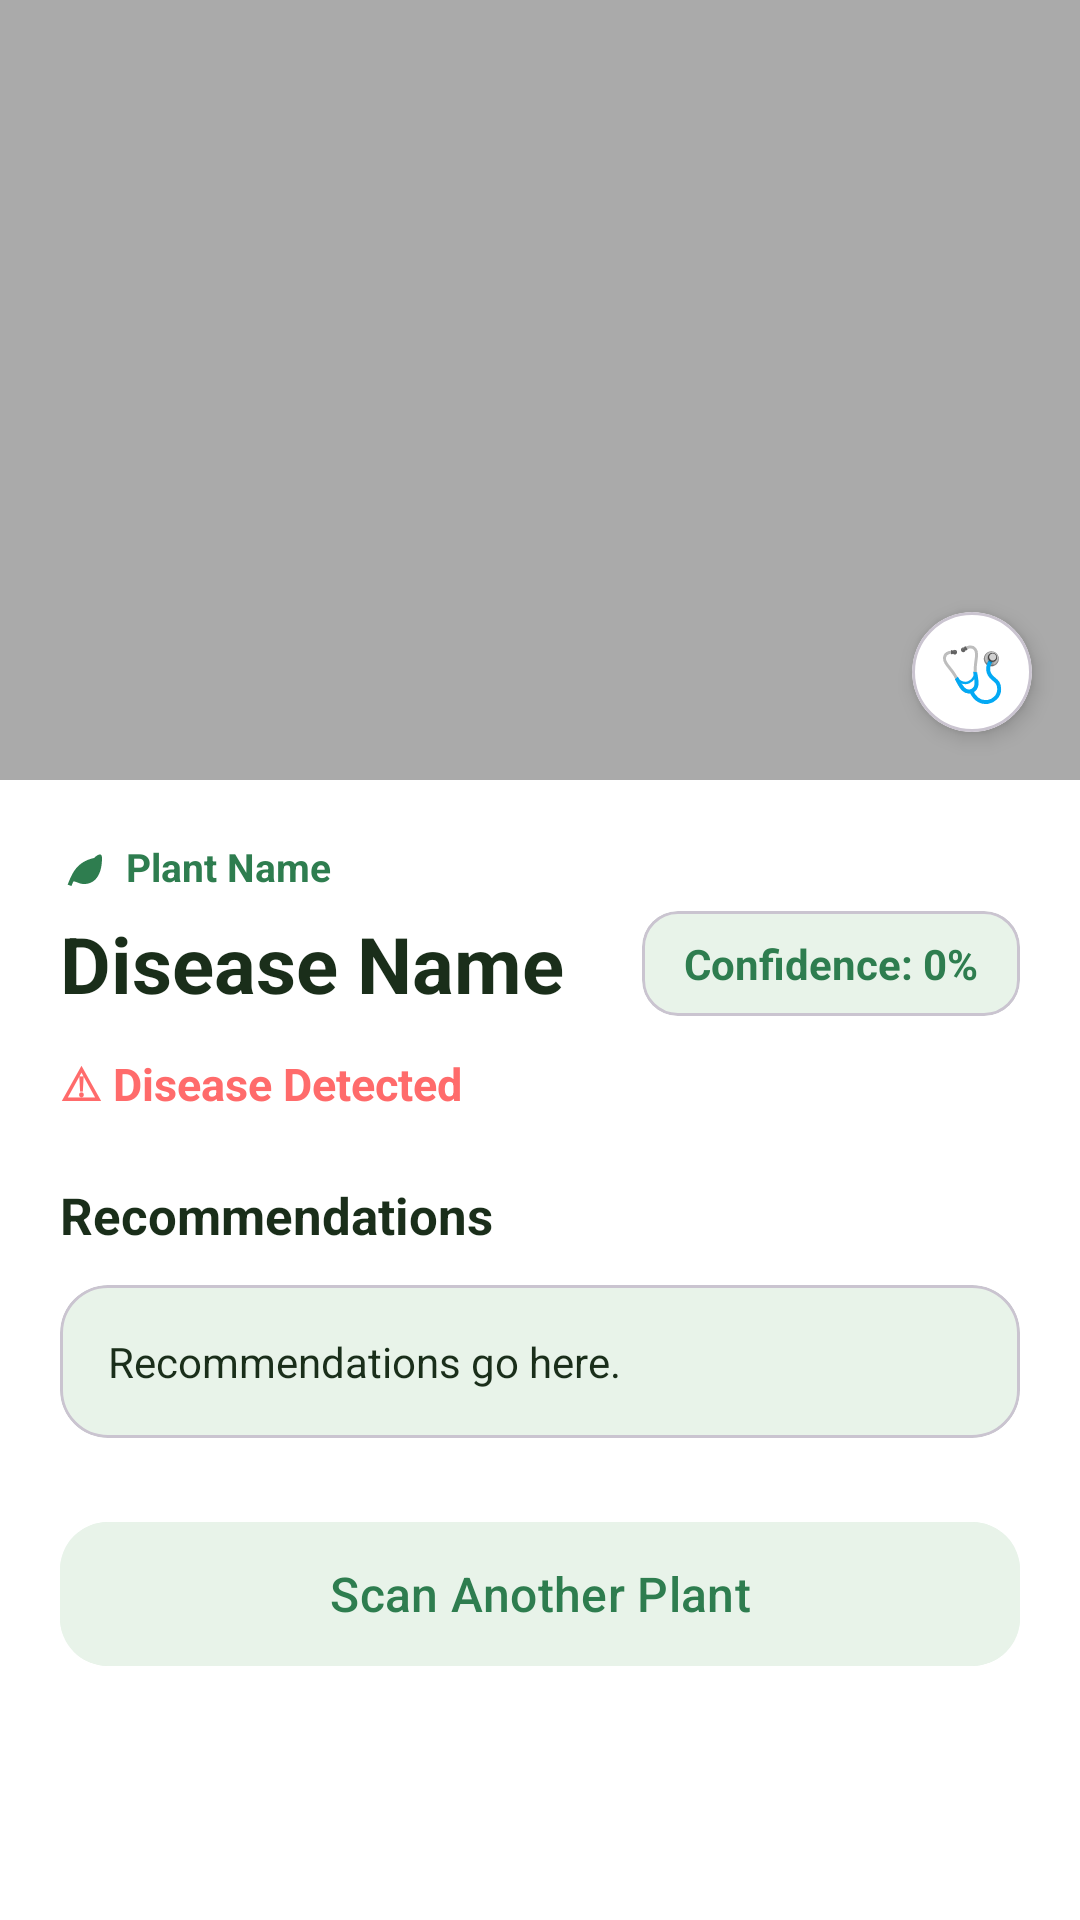

Icons on this 1080w x 1920h Android screen, each with its box as box=[x1, y1, x2, y2]:
leaf: box=[67, 854, 102, 886]
